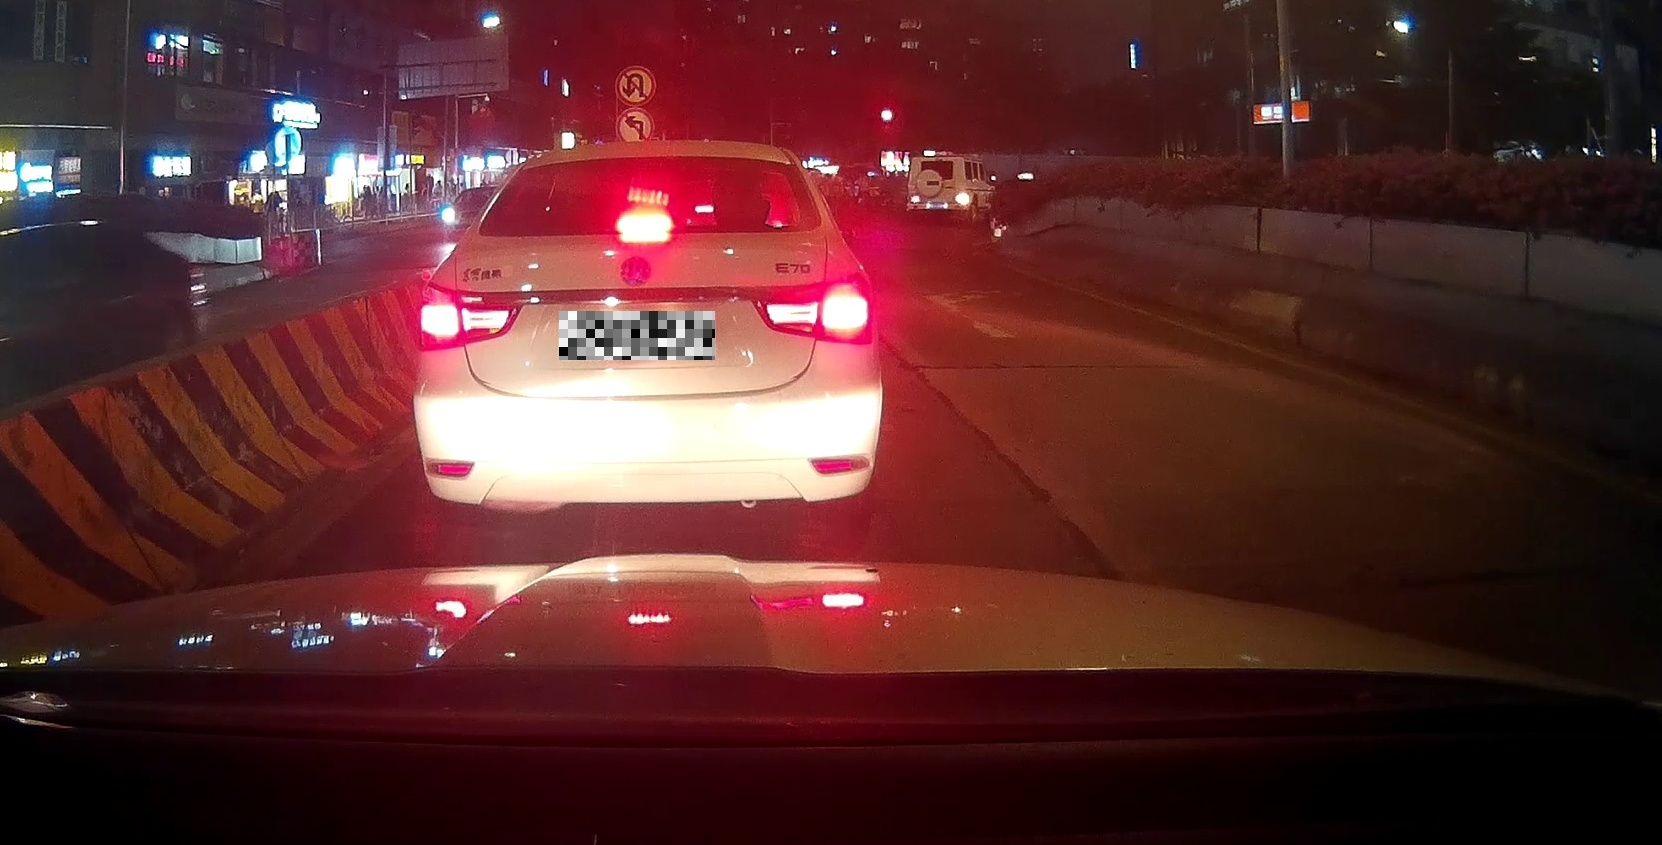L_light: (416, 280, 523, 352), (910, 195, 920, 203)
R_light: (750, 272, 875, 345), (955, 192, 970, 205)
T_light: (616, 214, 673, 233), (933, 161, 942, 162)
night-brake: (413, 137, 881, 515)
night-right: (906, 157, 970, 225)
plate_1: (559, 311, 715, 360)
